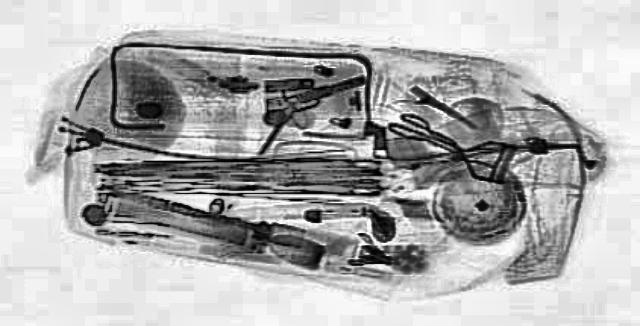Scissors: (374, 109, 474, 153)
